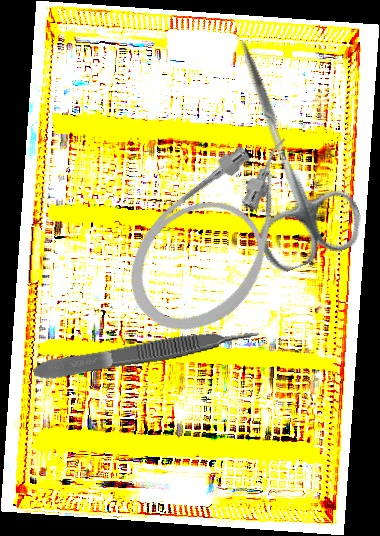Cannula: (104, 110, 343, 358)
Iris Scissors: (191, 24, 370, 277)
Tissue Forceps: (31, 324, 262, 383)
